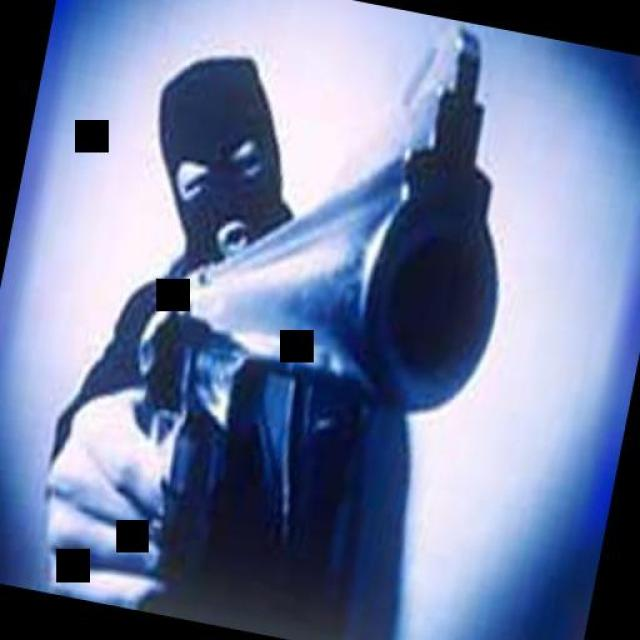gun: (92, 0, 552, 639)
